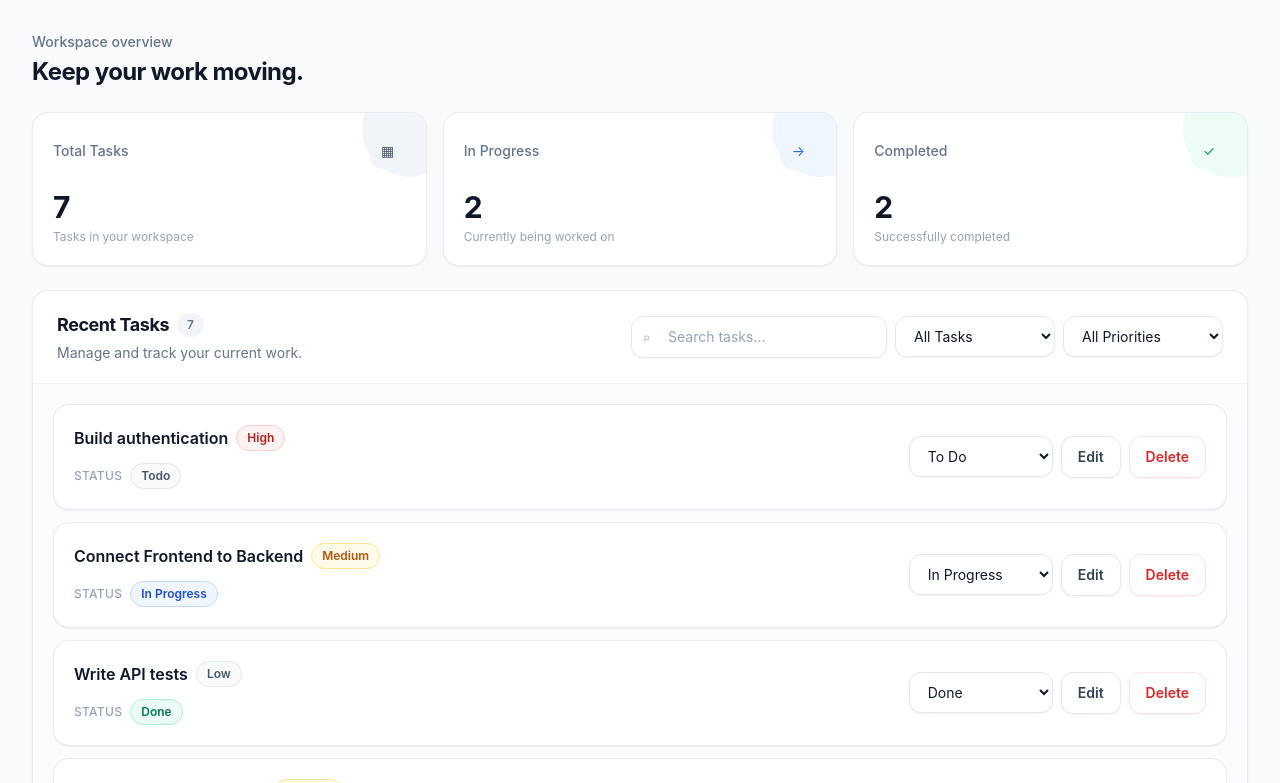
Dashboard › filters tasks by status
Select "Completed" in the 1st dropdown named "Filter tasks by status": (975, 336) [895,316,1055,357]
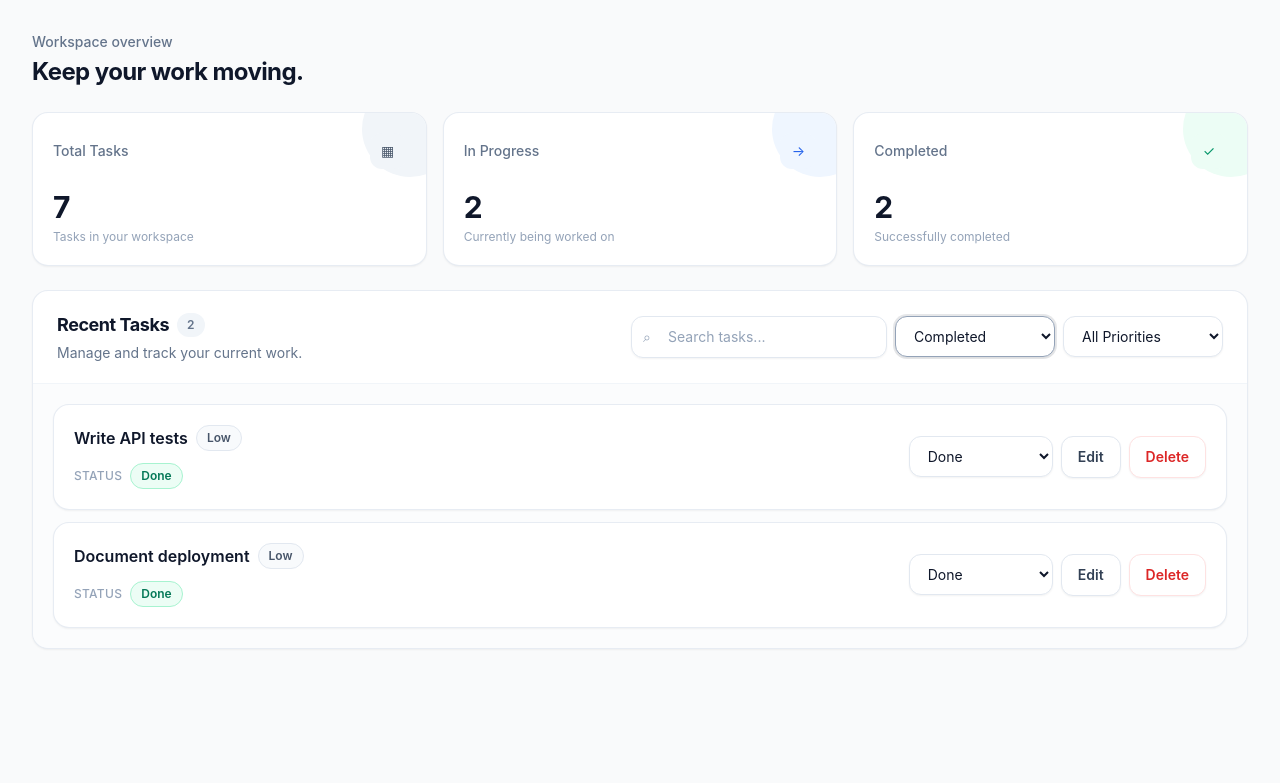
Expected: the text "Write API tests" is shown, [74,426,188,450]
Now the text "Document deployment" is shown, box [74,544,250,568]
Now the text "Build authentication" is gone
